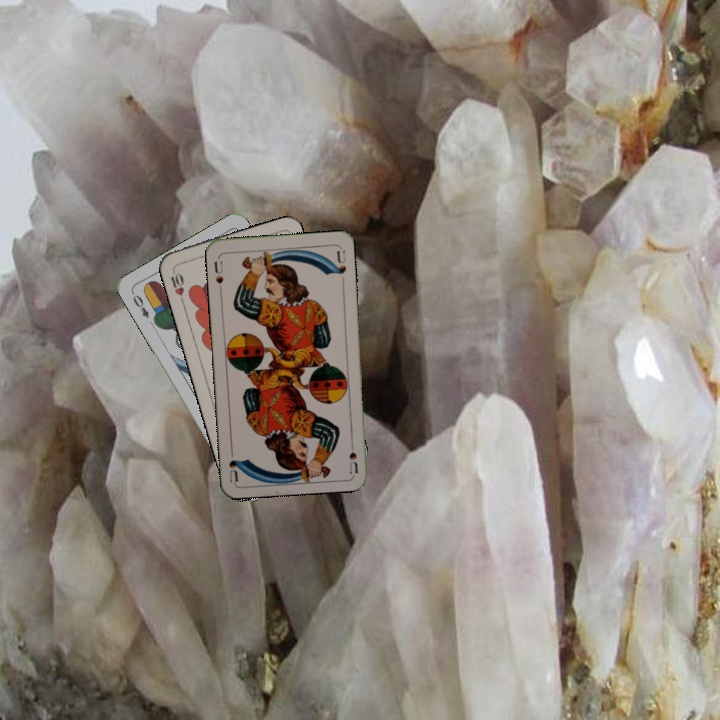EO: (128, 288, 152, 321)
H10: (166, 265, 187, 305)
SU: (345, 434, 360, 475), (210, 257, 226, 294)
